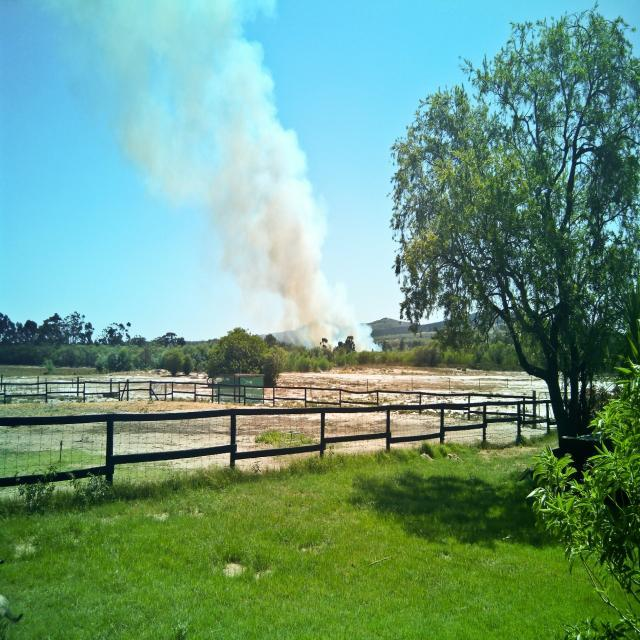Smoke: (98, 4, 384, 348)
